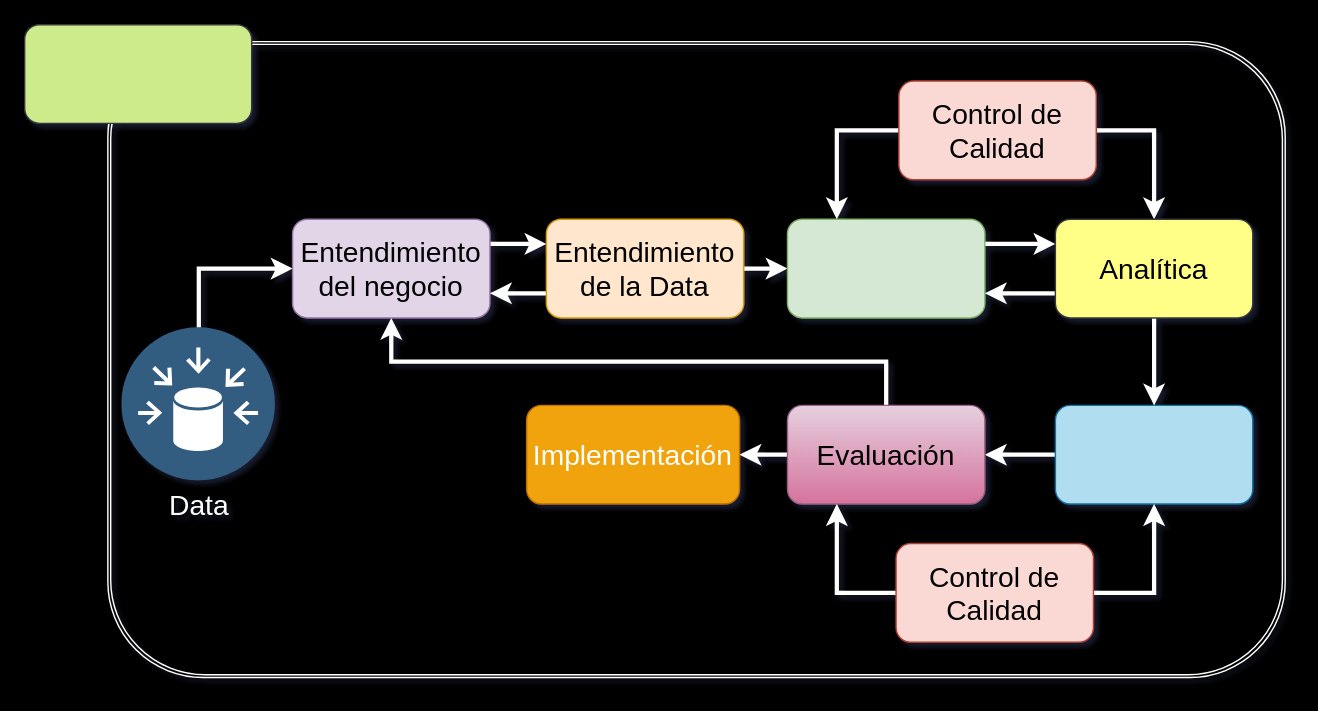
Some shapes in this 1318 by 711 pixel diagram are drawn without their labels. The centre of each missing label's shape, as x and y in pixels:
"Documentación" goes at [137,73].
"Modelamiento" goes at [1153,454].
"Preparación de la data" goes at [885,268].
